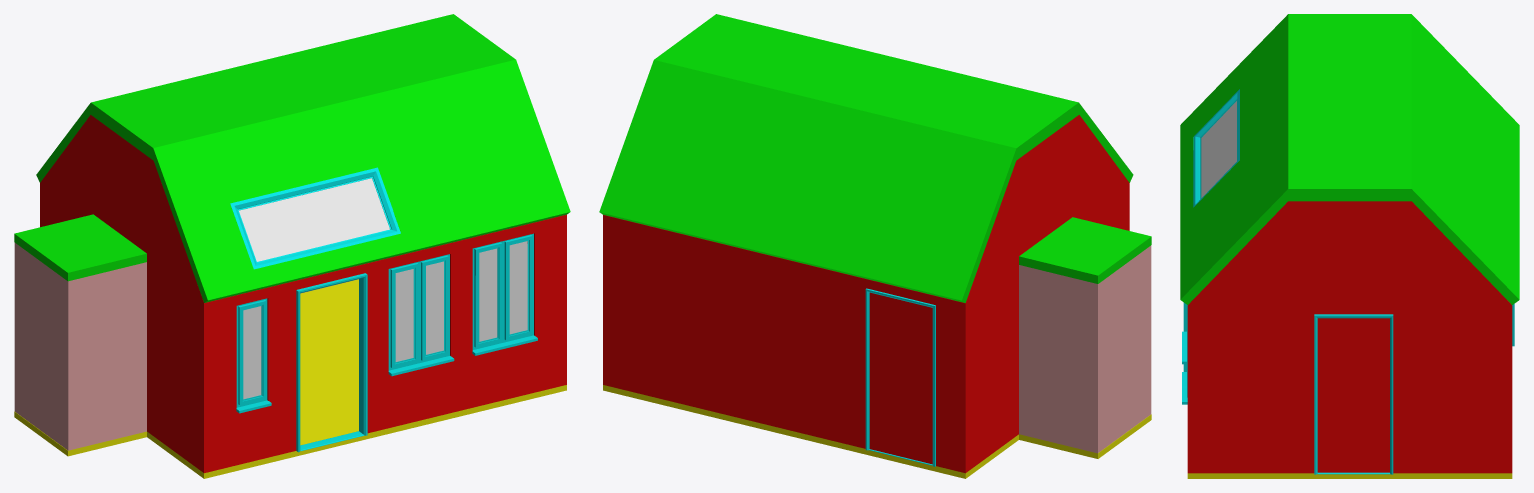
File: FloorPlan514_physics.fbx
3 renders of one model, left to right at view 1: azimuth 30°, elevation 25°; view 2: azimuth 150°, elevation 25°; view 3: azimuth 270°, elevation 25°, orthographic.
Visible parts, largest first — view 1: FP514:Ceiling_1, Walls, FP514:Walls_2, FP514:Floor_1, FP514:WindowPane_4, FP514:Ceiling_2, FP514:WindowPane_1 (×2), FP514:WindowFrame_3, FP514:WindowFrame_2, FP514:WindowFrame_4, FP514:WindowPane_2, FP514:DoorFrame_1 (+2 smaller); view 2: FP514:Ceiling_1, Walls, FP514:Walls_2, FP514:Ceiling_2, FP514:Floor_1, FP514:DoorFrame_3, FP514:Floor_2; view 3: Walls, FP514:Ceiling_1, FP514:WindowPane_4, FP514:Floor_1, FP514:DoorFrame_2, FP514:WindowFrame_4.
Part boxes in pixels (bbox=[...]): FP514:Ceiling_1: bbox=[36, 14, 570, 302]; Walls: bbox=[40, 115, 566, 473]; FP514:Walls_2: bbox=[14, 243, 146, 450]; FP514:Floor_1: bbox=[147, 279, 566, 478]; FP514:WindowPane_4: bbox=[239, 178, 389, 261]; FP514:Ceiling_2: bbox=[14, 214, 146, 281]; FP514:WindowPane_1 (×2): bbox=[243, 241, 527, 399]; FP514:WindowFrame_3: bbox=[472, 233, 537, 355]; FP514:WindowFrame_2: bbox=[388, 254, 454, 376]; FP514:WindowFrame_4: bbox=[230, 167, 400, 269]; FP514:WindowPane_2: bbox=[395, 261, 443, 361]; FP514:DoorFrame_1: bbox=[296, 273, 367, 452]; FP514:Ceiling_1: bbox=[599, 14, 1133, 302]; Walls: bbox=[603, 115, 1129, 473]; FP514:Walls_2: bbox=[1019, 245, 1151, 453]; FP514:Ceiling_2: bbox=[1019, 217, 1151, 283]; FP514:Floor_1: bbox=[603, 385, 1018, 478]; FP514:DoorFrame_3: bbox=[865, 288, 935, 466]; FP514:Floor_2: bbox=[1019, 414, 1151, 458]; Walls: bbox=[1187, 201, 1512, 473]; FP514:Ceiling_1: bbox=[1180, 14, 1519, 304]; FP514:WindowPane_4: bbox=[1201, 101, 1236, 197]; FP514:Floor_1: bbox=[1187, 473, 1512, 478]; FP514:DoorFrame_2: bbox=[1314, 314, 1393, 474]; FP514:WindowFrame_4: bbox=[1193, 89, 1239, 207].
Size of the model in its own units: 596 by 376 by 399.
